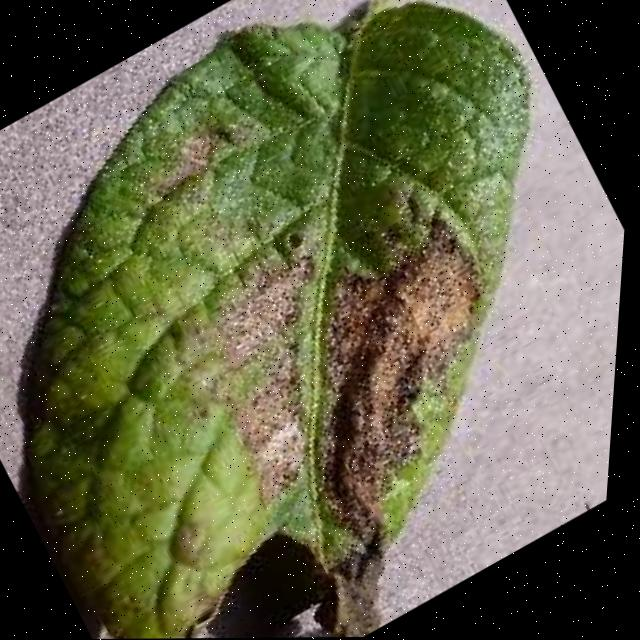Late_blight: (196, 197, 602, 581), (137, 213, 446, 526), (95, 72, 297, 234)
